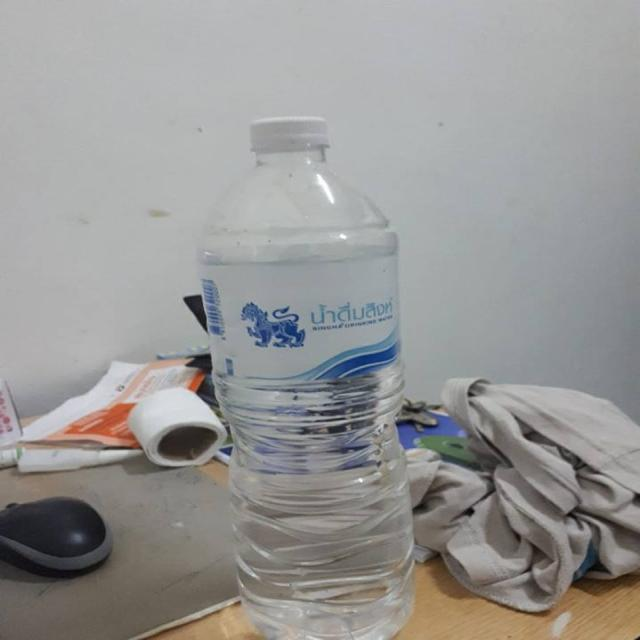bottle: (195, 114, 416, 640)
